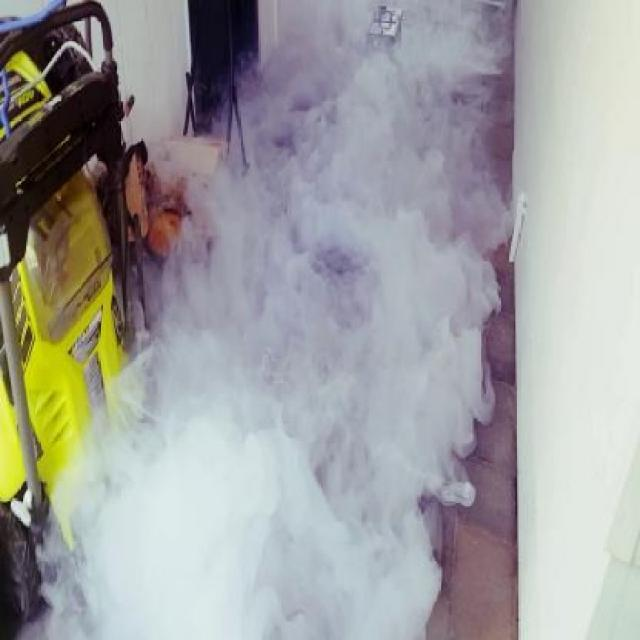smoke: (72, 210, 483, 626), (256, 11, 495, 510)
